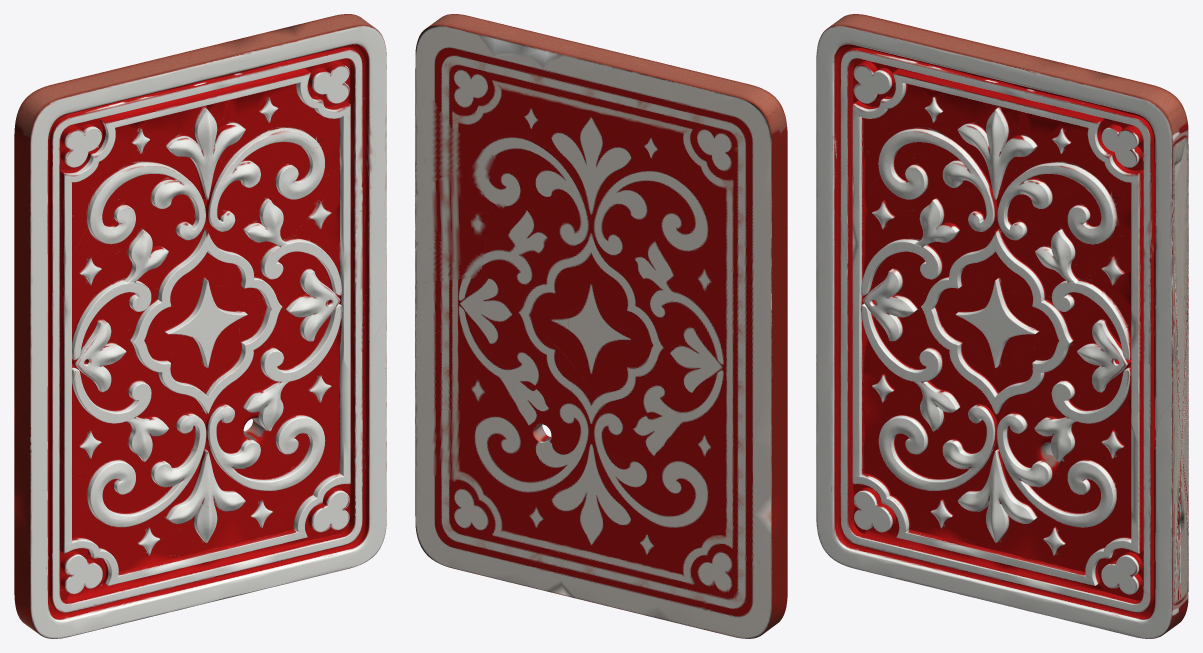
File: card.glb
The picture shows the model from 3 angles, left to right: view 1: azimuth 30°, elevation 25°; view 2: azimuth 150°, elevation 25°; view 3: azimuth 330°, elevation 25°; orthographic projection.
Size of the model in its own units: 1.31 by 1.9 by 0.115.
1 material, 1 textured.
